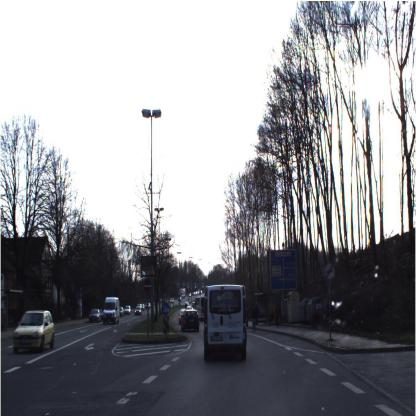mandatory: (158, 298, 172, 317)
other: (321, 259, 338, 286), (140, 273, 154, 297)
